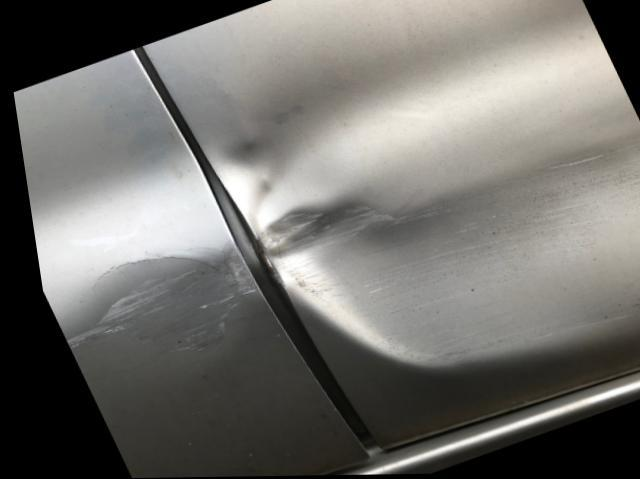dent: (210, 0, 640, 364)
scratch: (51, 241, 248, 350)
